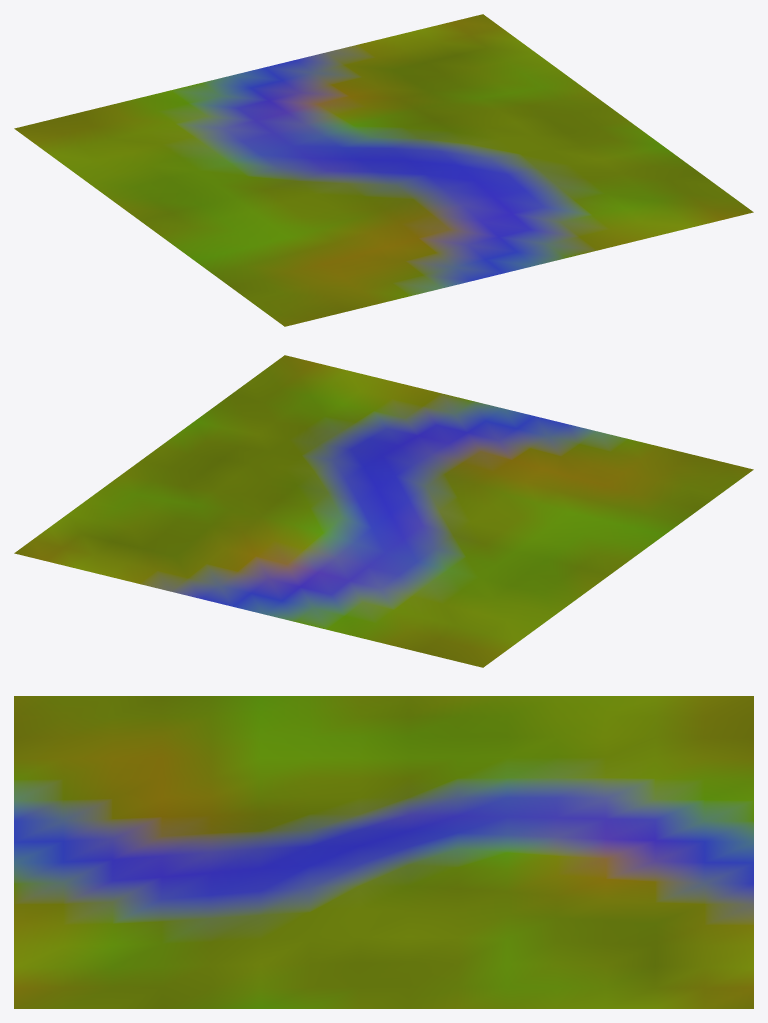
Rendered from terrain_chunk_8m_vertexpaint.glb.
3 renders of one model, top to bottom at view 1: azimuth 30°, elevation 25°; view 2: azimuth 150°, elevation 25°; view 3: azimuth 270°, elevation 25°, orthographic. The views are drawn at different scales.
Parts seen in each view (by area): view 1: terrain_chunk_8m_vertexpaint; view 2: terrain_chunk_8m_vertexpaint; view 3: terrain_chunk_8m_vertexpaint.
Part boxes in pixels (x1,y1,x2,y2): terrain_chunk_8m_vertexpaint: [14, 14, 753, 326]; terrain_chunk_8m_vertexpaint: [14, 355, 753, 667]; terrain_chunk_8m_vertexpaint: [14, 696, 753, 1008].
Size of the model in its own units: 8 by 0.232 by 8.
